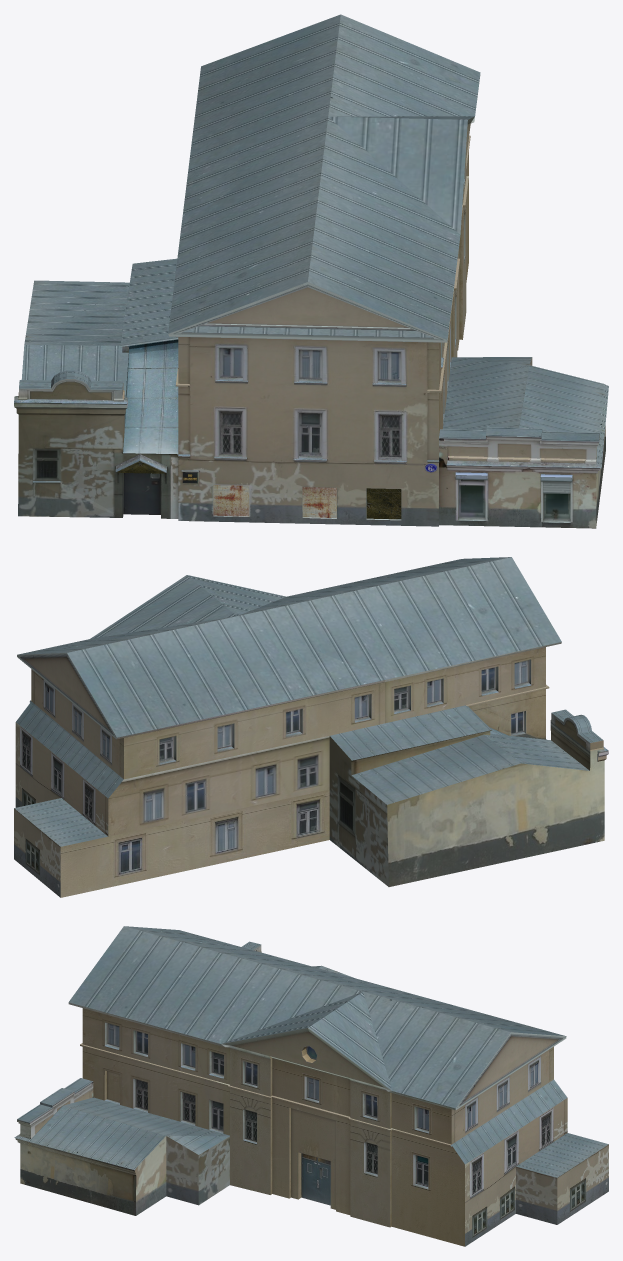
The model's file is city_manor.glb.
3 views of the same model, one above another, from view 1: azimuth 30°, elevation 25°; view 2: azimuth 150°, elevation 25°; view 3: azimuth 270°, elevation 25° (orthographic). The views are drawn at different scales.
Parts seen in each view (by area): view 1: city_manor; view 2: city_manor; view 3: city_manor.
Part boxes in pixels (x1,y1,x2,y2): city_manor: (14, 14, 608, 528); city_manor: (14, 557, 608, 897); city_manor: (14, 926, 608, 1246).
Bounding box in the file's own units: 13.72 × 5.36 × 15.95.
Materials: 2 (2 with a texture image).
